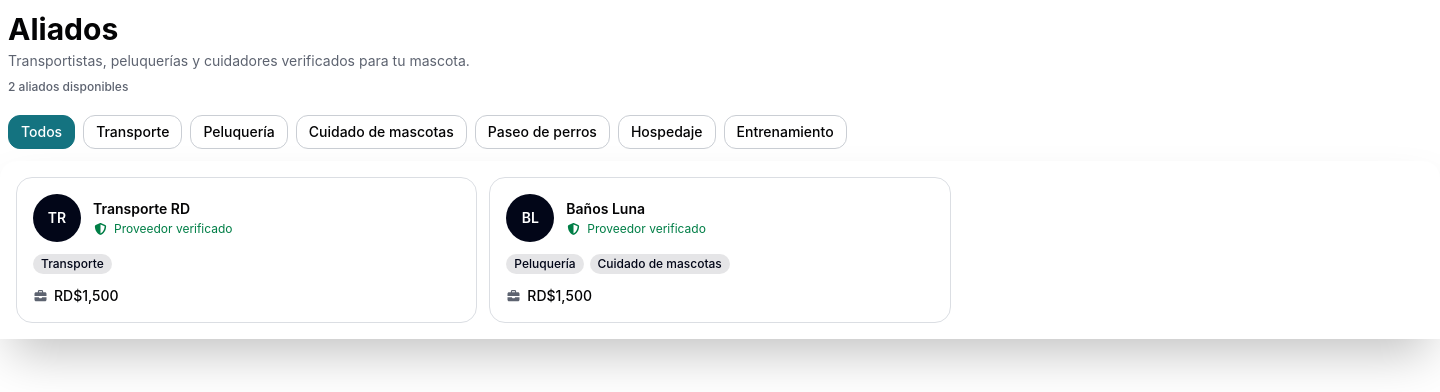
Test case: ProviderGrid › restores the full list and moves aria-pressed back when "Todos" is pressed
Click the button "Transporte" at (133, 132), box top-left (83, 115), bottom-right (182, 149)
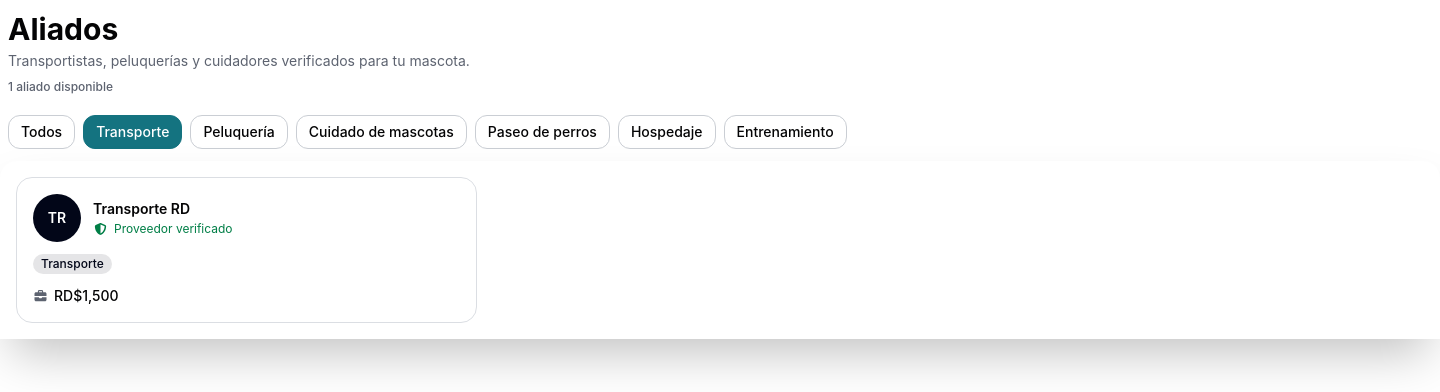
Expected: the button "Baños Luna" is gone
Click the button "Todos" at (42, 132), box top-left (8, 115), bottom-right (75, 149)
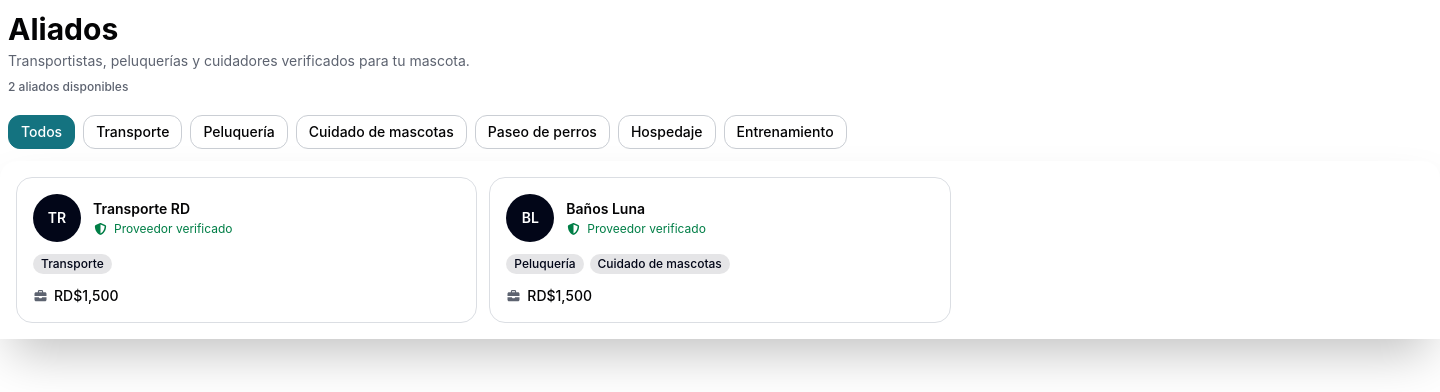
Expected: the heading "Transporte RD" is shown, top-left (93, 200), bottom-right (190, 217)
Expected: the heading "Baños Luna" is shown, top-left (566, 200), bottom-right (645, 217)
